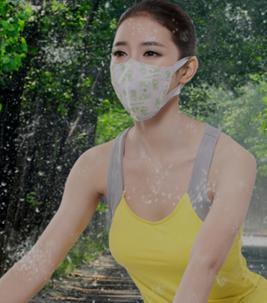OK: (112, 30, 176, 122)
